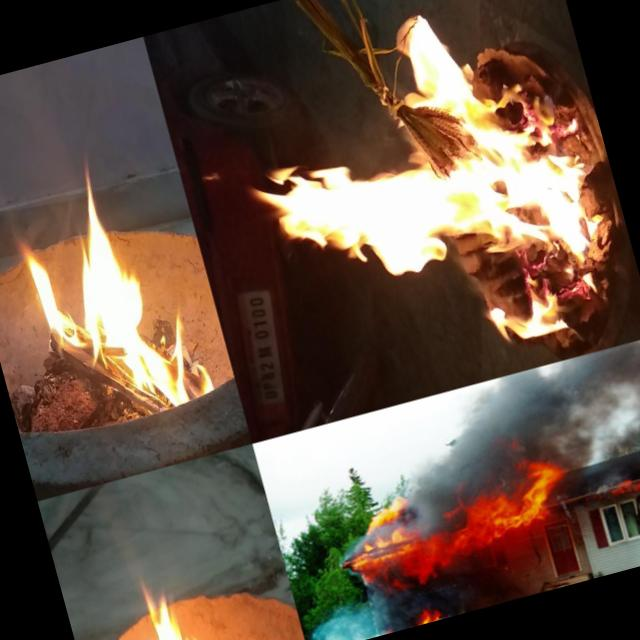fire: (223, 0, 628, 392), (6, 165, 208, 433), (357, 498, 550, 580), (119, 563, 233, 640), (439, 458, 572, 523), (608, 441, 640, 506), (362, 494, 412, 530), (406, 604, 443, 628)
smoke: (362, 358, 597, 515), (569, 335, 640, 483), (301, 578, 428, 640)
